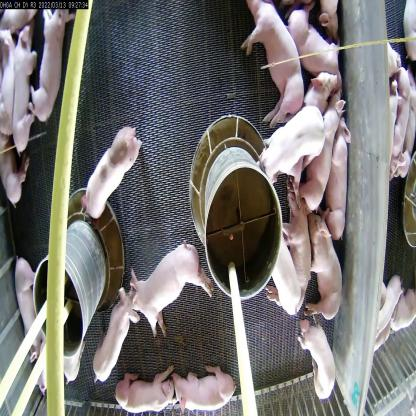Pig: (126, 228, 218, 334), (242, 0, 306, 133), (92, 281, 144, 404), (295, 82, 339, 218), (254, 109, 330, 187), (85, 127, 140, 224), (33, 8, 76, 128), (314, 207, 350, 334), (280, 177, 312, 300), (262, 226, 300, 321), (11, 30, 39, 158), (110, 368, 186, 415), (299, 56, 344, 134), (299, 313, 339, 400), (9, 256, 47, 342), (171, 365, 235, 415), (328, 132, 358, 235), (0, 132, 21, 207)
